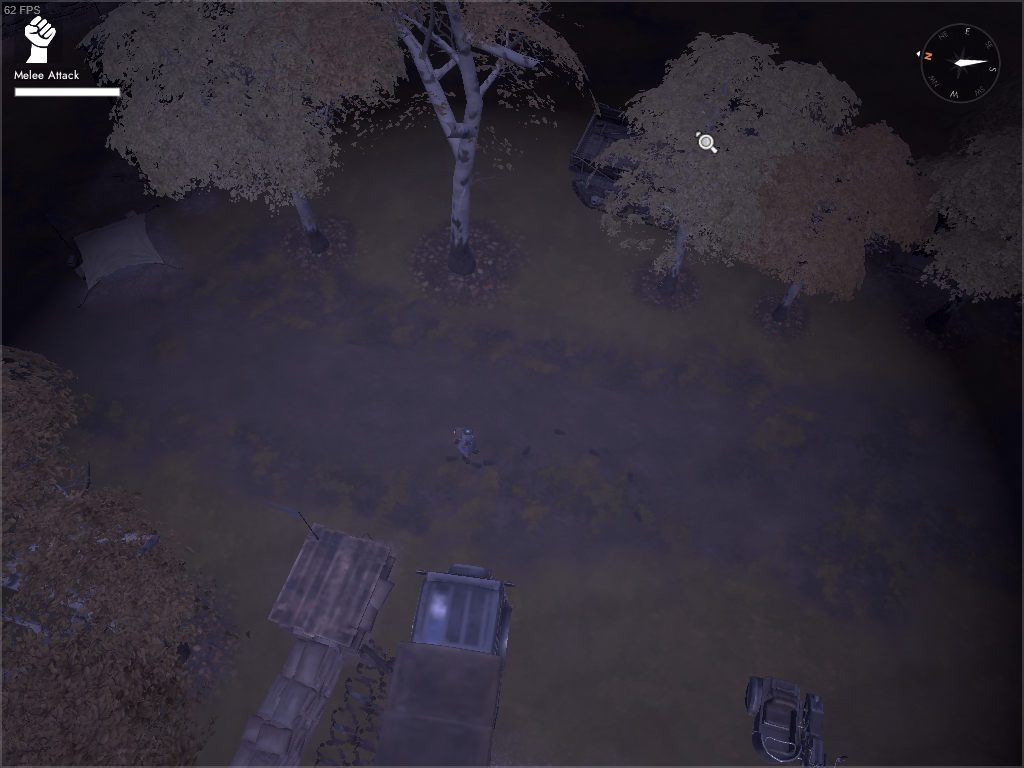flatbed: (565, 96, 733, 240)
foxhole: (40, 198, 191, 313)
motorcycle: (742, 671, 851, 768)
pillbox: (259, 496, 400, 658)
player: (449, 422, 483, 467)
sandbag: (229, 633, 355, 768)
truck: (372, 563, 525, 768)
wire: (309, 635, 414, 768)
